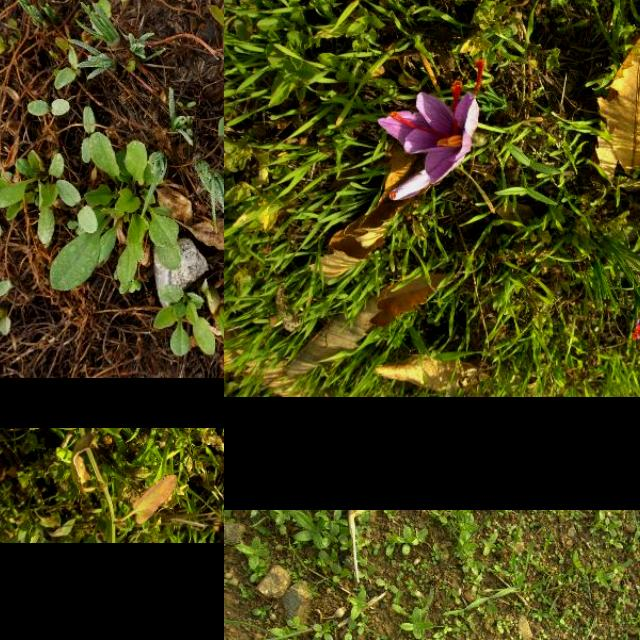flower: (631, 308, 640, 341)
overlap: (378, 59, 484, 201)
